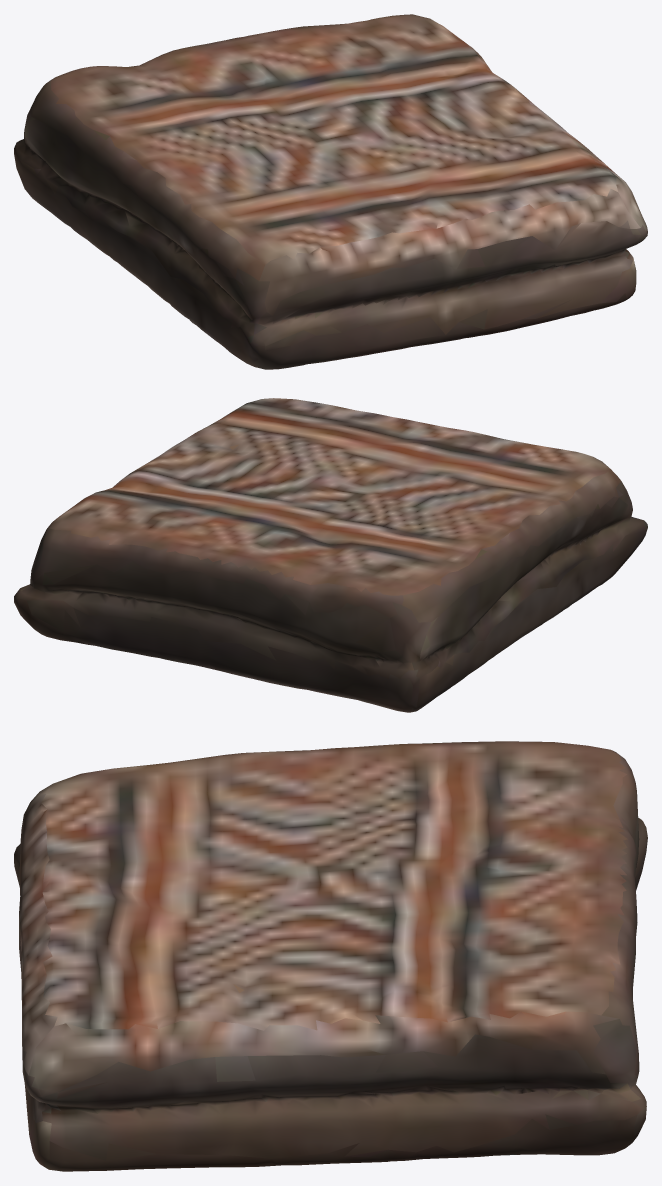
File: m29_piso_marajoara.glb
3 renders of one model, top to bottom at view 1: azimuth 30°, elevation 25°; view 2: azimuth 150°, elevation 25°; view 3: azimuth 270°, elevation 25°, orthographic. The views are drawn at different scales.
Parts seen in each view (by area): view 1: m29_piso_marajoara; view 2: m29_piso_marajoara; view 3: m29_piso_marajoara.
Part boxes in pixels (left/top/right/bottom): m29_piso_marajoara: left=14, top=14, right=647, bottom=369; m29_piso_marajoara: left=14, top=398, right=647, bottom=712; m29_piso_marajoara: left=14, top=741, right=647, bottom=1171.
Size of the model in its own units: 0.9992 by 0.3418 by 1.
1 material, 1 textured.
